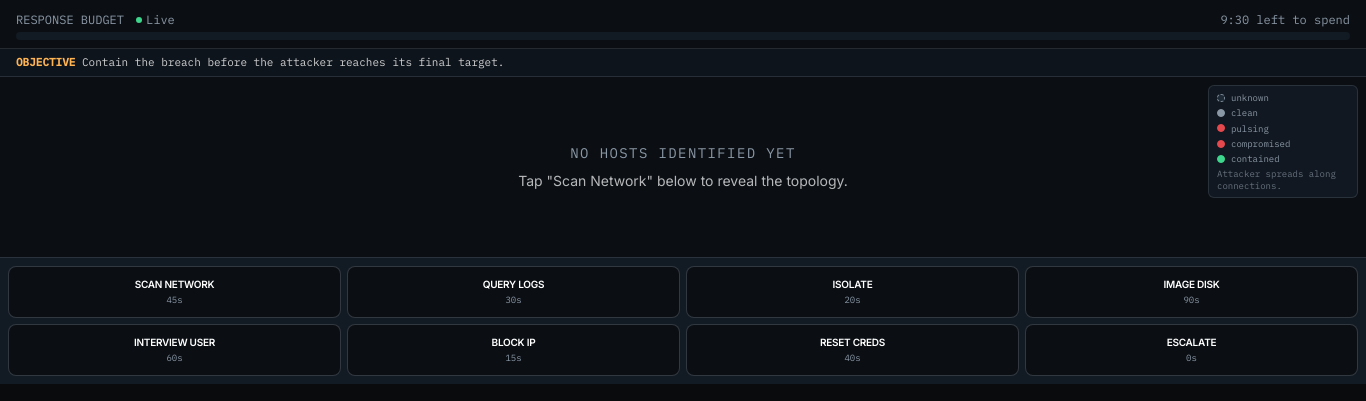
it: ActionConsole › per-verb coachmarks › dismisses the coachmark via Got it without re-submitting the verb
The width and height of the screenshot is (1366, 401).
Click the text "Scan Network" at (174, 284), box x1=135 y1=278 x2=214 y2=291
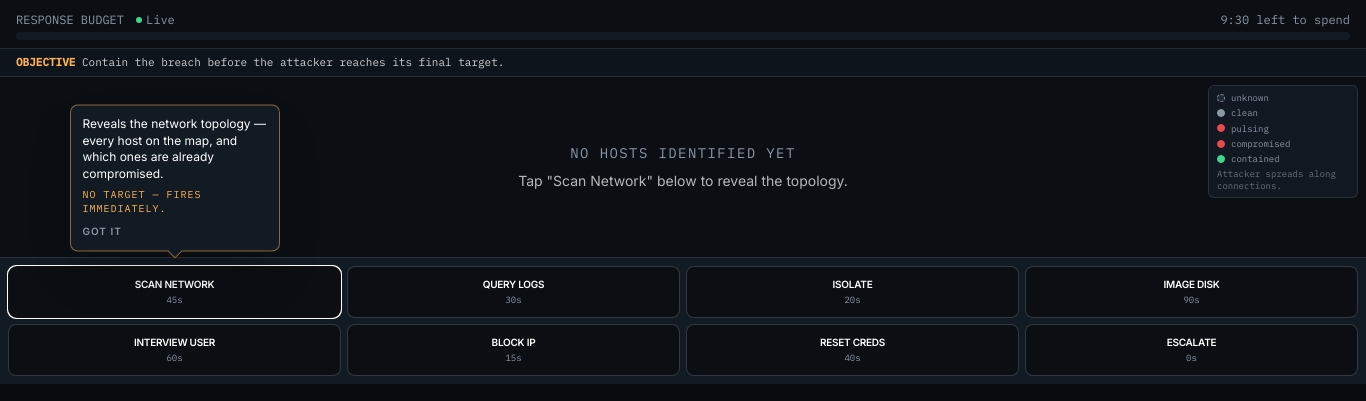
Click the button "Got it" at (102, 231), box x1=82 y1=223 x2=122 y2=238
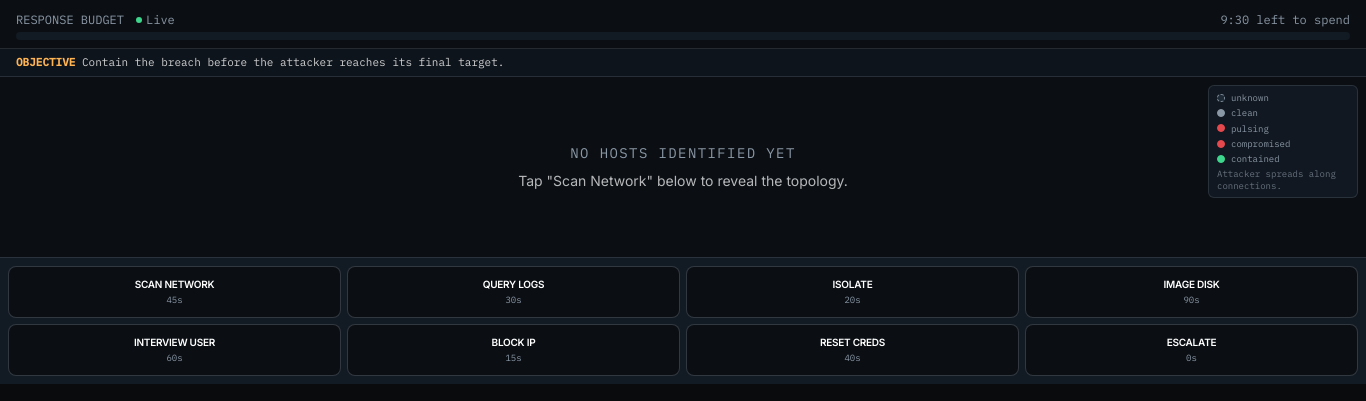
Check: the tooltip is gone
